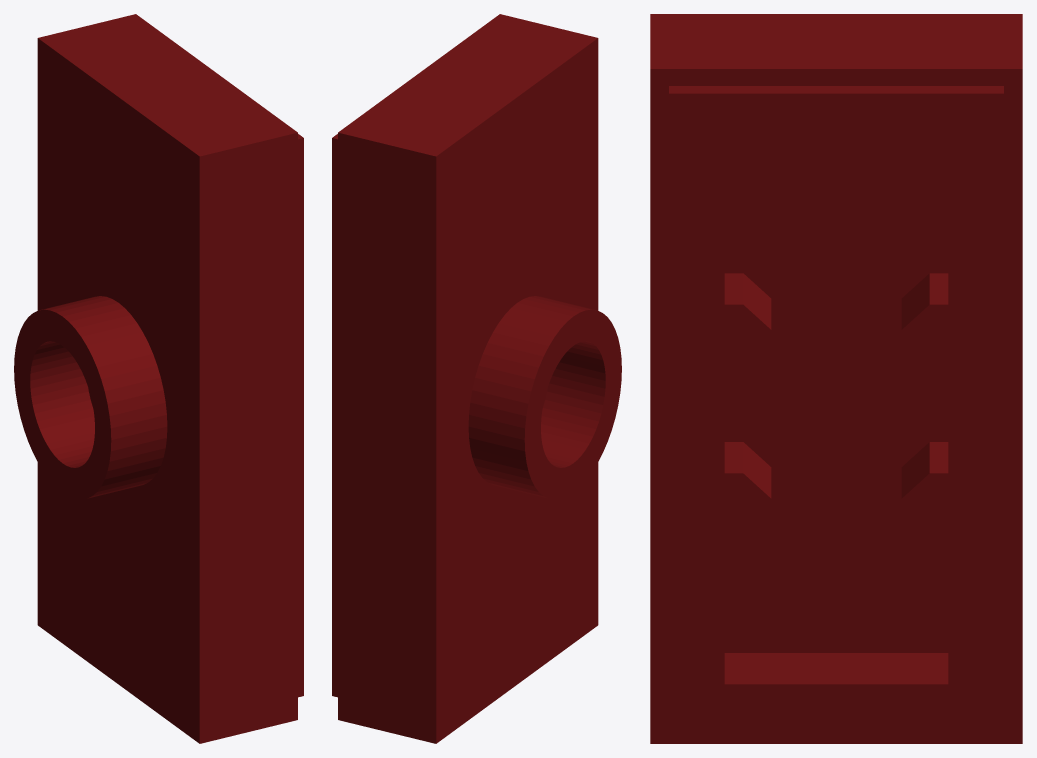
3 renders of one model, left to right at view 1: azimuth 30°, elevation 25°; view 2: azimuth 150°, elevation 25°; view 3: azimuth 270°, elevation 25°, orthographic. The views are drawn at different scales.
Parts seen in each view (by area): view 1: box5, _1_4cyli_7, _4_4ring2, _1_4cyli_1, box4, _1_4cyli_6, _1_4cyli, _1_4cyli_4; view 2: box5, _1_4cyli_4, _4_4ring2, _1_4cyli_2, box4, _1_4cyli_5, _1_4cyli_3, _1_4cyli_7; view 3: mesh_25, box5, box3u4a_1, box4, rect1_1, rect1_3, box3u6, box3u6_3, box3u6_1, box3u6_2, box2_5_1, box2_5_2 (+2 smaller).
Part boxes in pixels (box(x1,y1,x2,y2)): box5: box(37, 14, 297, 743); _1_4cyli_7: box(63, 303, 167, 439); _4_4ring2: box(14, 309, 111, 499); _1_4cyli_1: box(30, 369, 94, 463); box4: box(298, 134, 303, 697); _1_4cyli_6: box(88, 426, 167, 498); _1_4cyli: box(30, 341, 79, 380); _1_4cyli_4: box(40, 296, 118, 316); box5: box(338, 14, 598, 743); _1_4cyli_4: box(468, 303, 572, 439); _4_4ring2: box(524, 309, 621, 499); _1_4cyli_2: box(541, 369, 605, 463); box4: box(332, 134, 337, 697); _1_4cyli_5: box(468, 426, 547, 498); _1_4cyli_3: box(556, 341, 605, 380); _1_4cyli_7: box(517, 296, 595, 316); mesh_25: box(650, 69, 1022, 743); box5: box(650, 14, 1022, 68); box3u4a_1: box(724, 653, 948, 684); box4: box(669, 86, 1003, 93); rect1_1: box(724, 355, 743, 441); rect1_3: box(929, 355, 948, 441); box3u6: box(724, 273, 743, 355); box3u6_3: box(929, 273, 948, 355); box3u6_1: box(724, 442, 743, 523); box3u6_2: box(929, 442, 948, 523); box2_5_1: box(743, 442, 771, 498); box2_5_2: box(901, 442, 929, 498).
Bounding box in the file's own units: 12 × 40 × 20.
